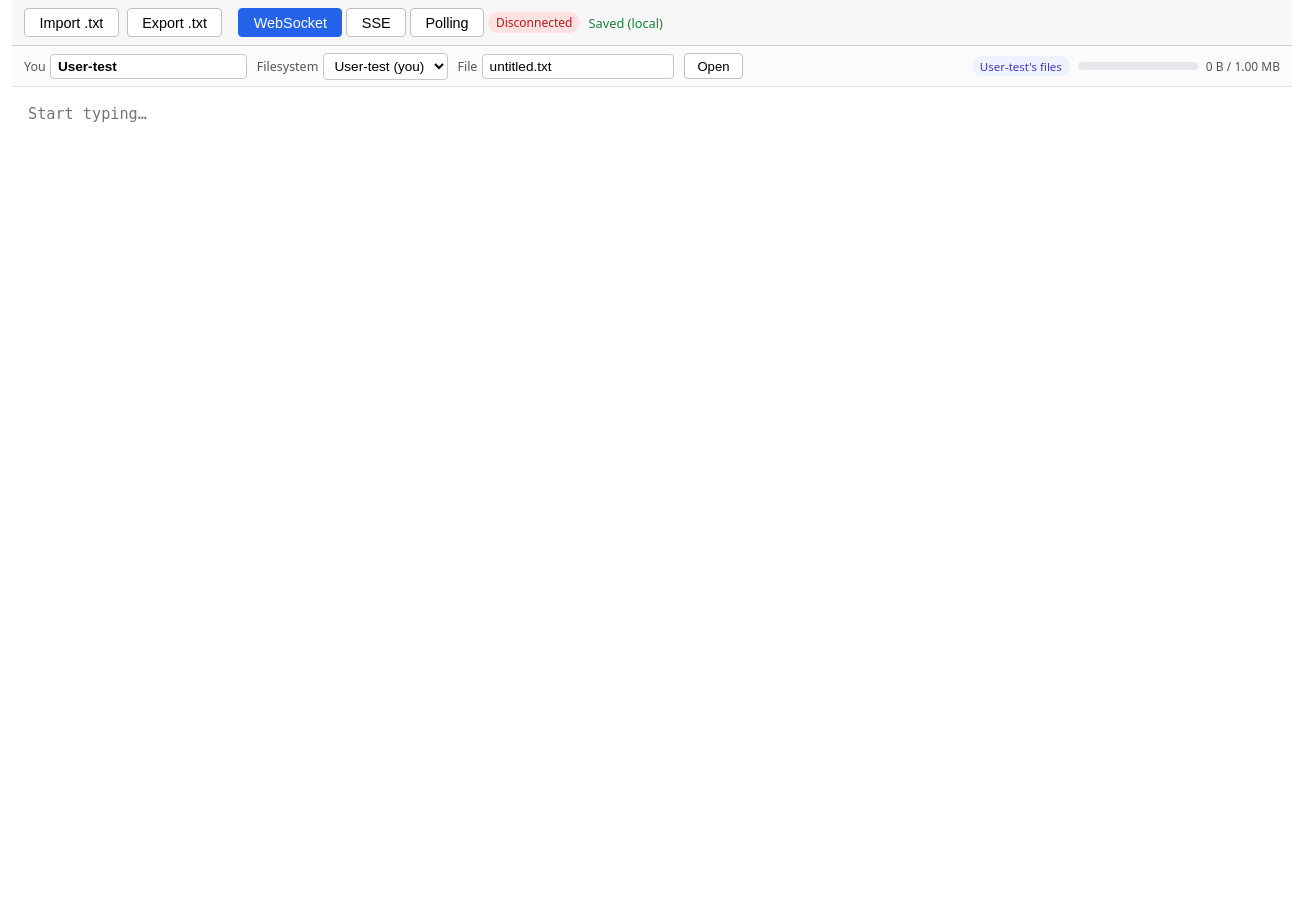
Editor › clears the unsaved indicator after exporting
Type "note" into the text box named "editor" at (652, 494), box [12, 87, 1292, 899]
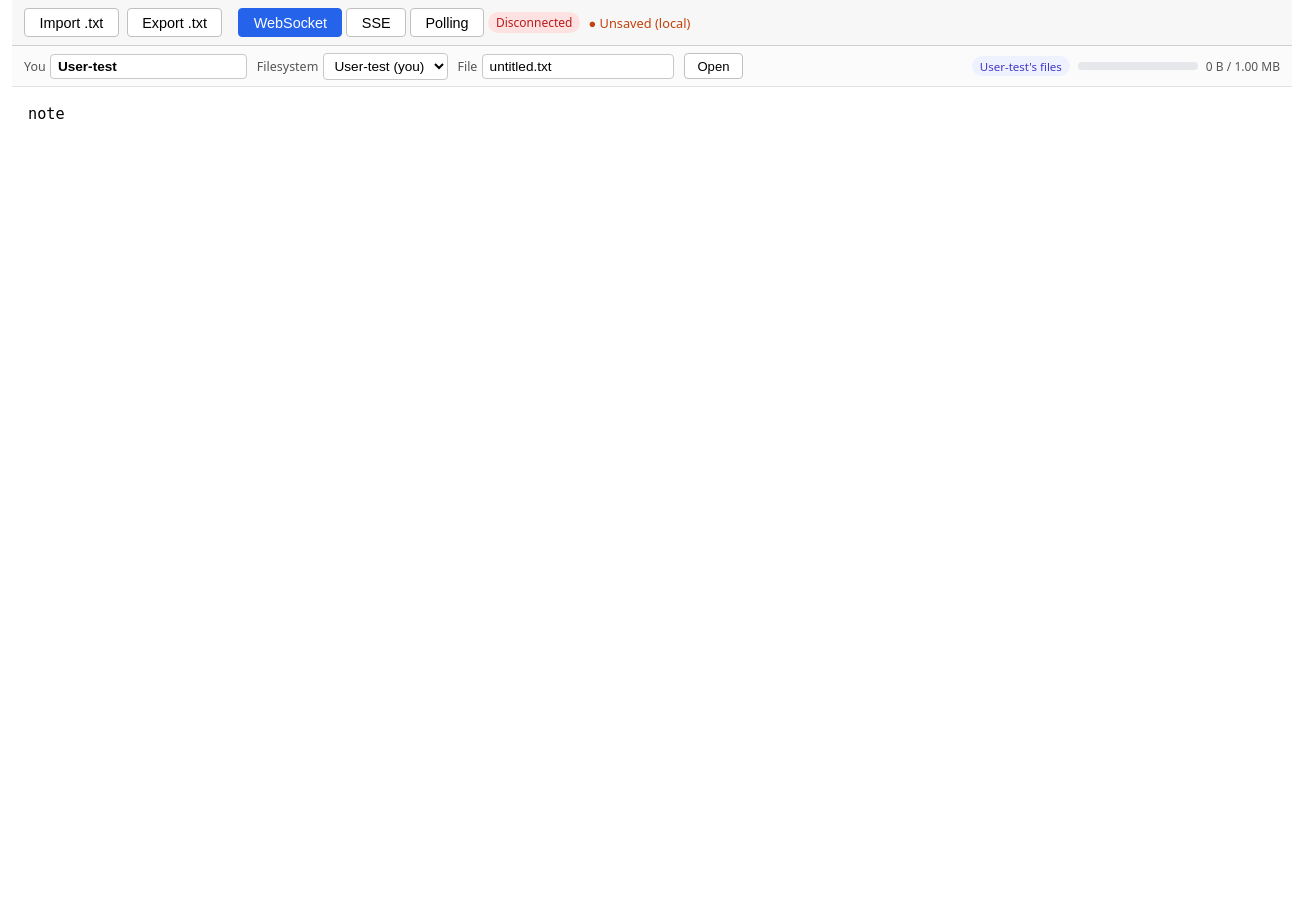
Expected: the text "● Unsaved (local)" is shown, [588, 14, 690, 32]
Click the button "Export .txt" at (175, 23), box [127, 8, 222, 37]
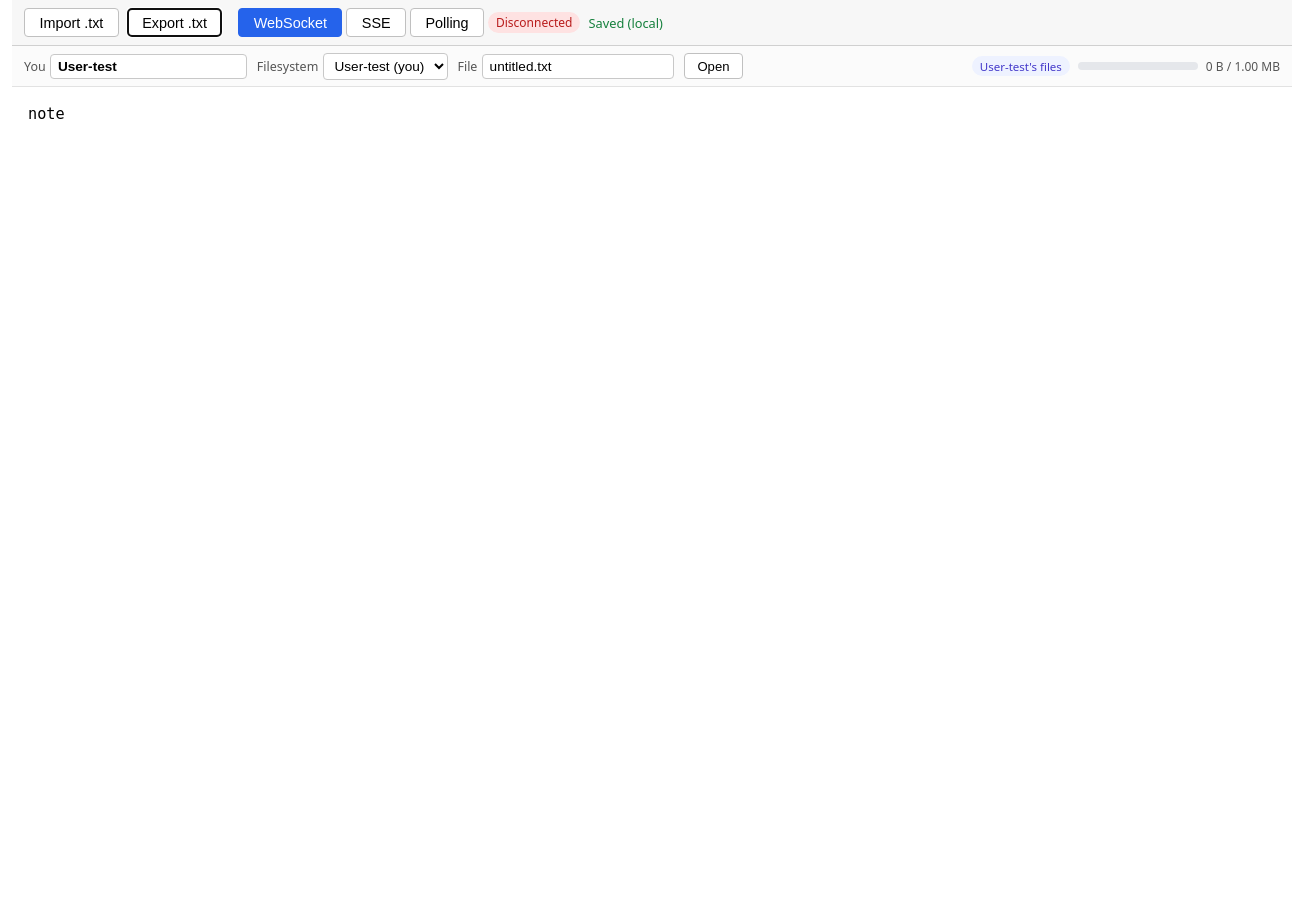
Expected: the text "Unsaved" is gone
